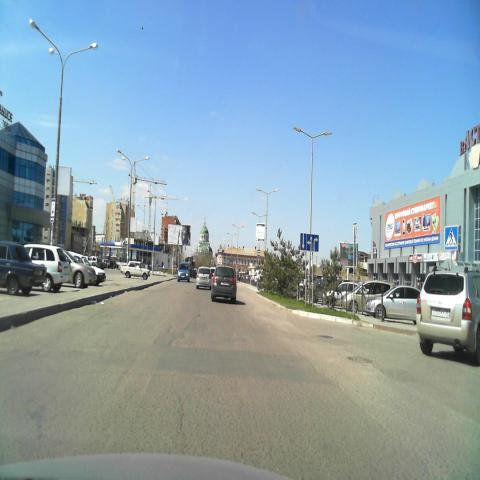5_15_7: (300, 233, 320, 251)
5_19_1: (444, 225, 458, 251)
